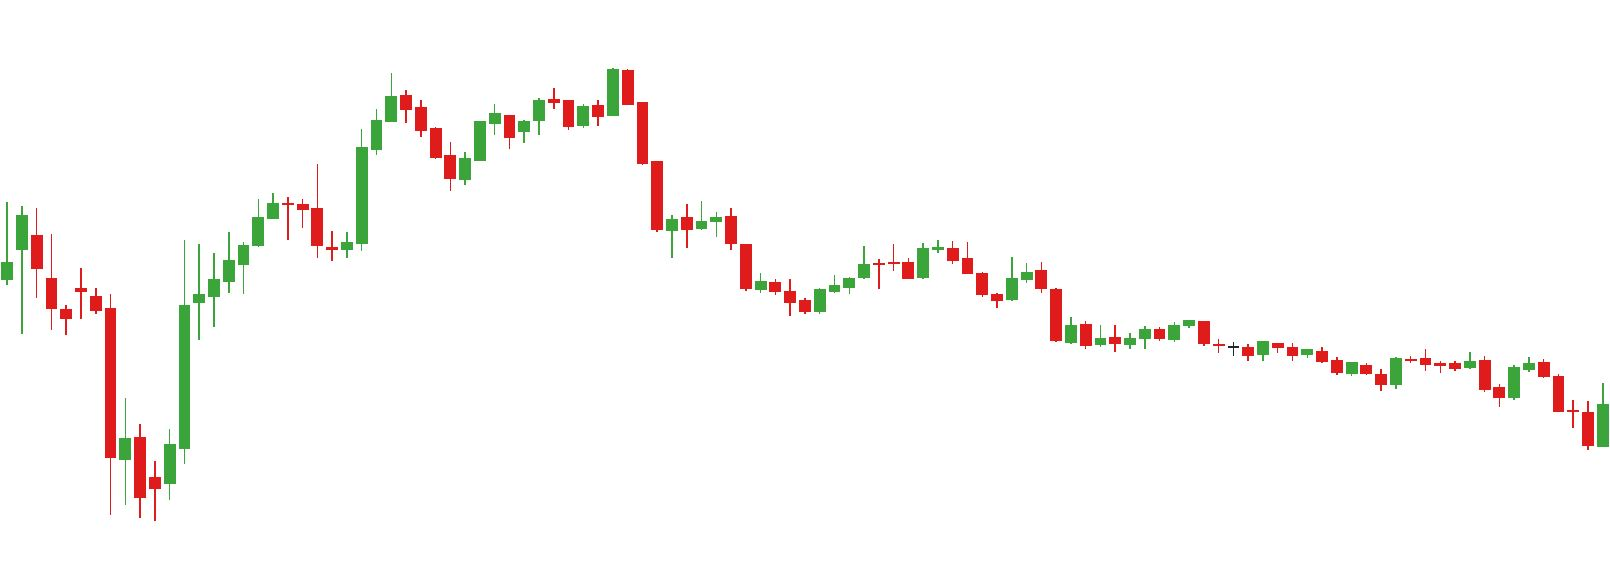sell: (548, 66, 635, 139)
